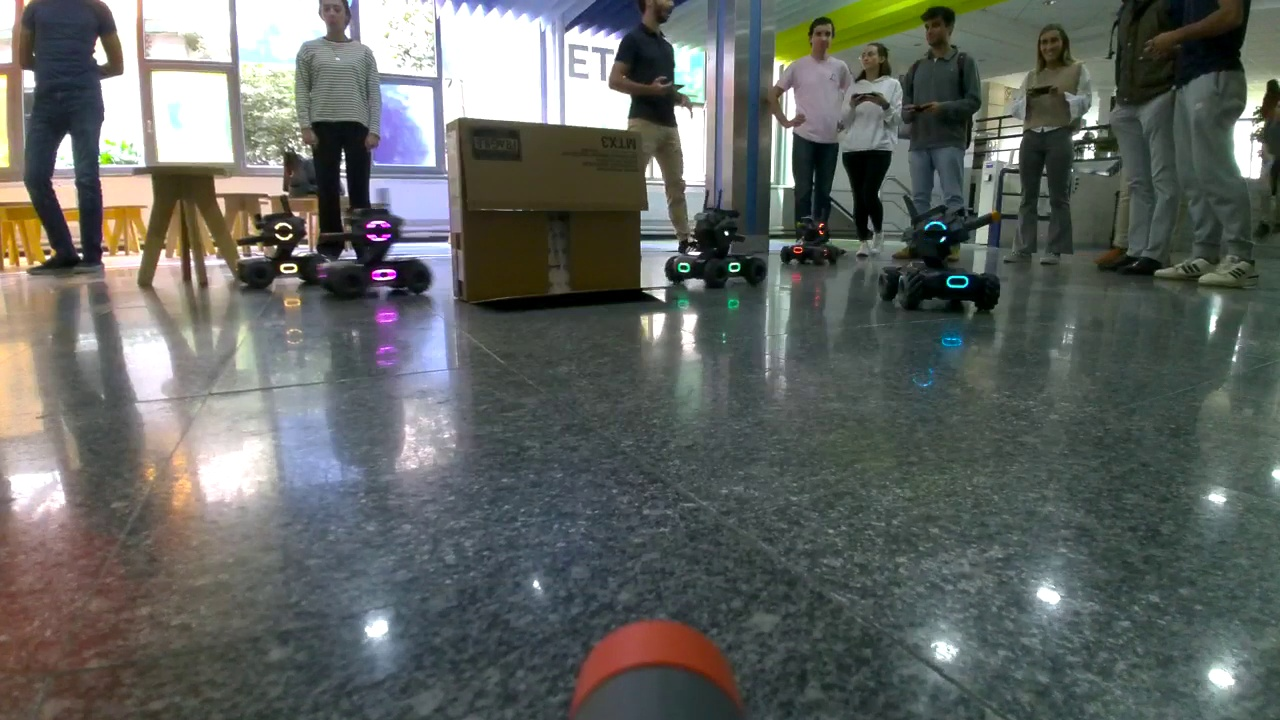robot: (876, 203, 1009, 317), (323, 206, 439, 296), (663, 203, 774, 287), (240, 213, 336, 288), (777, 212, 843, 270)
